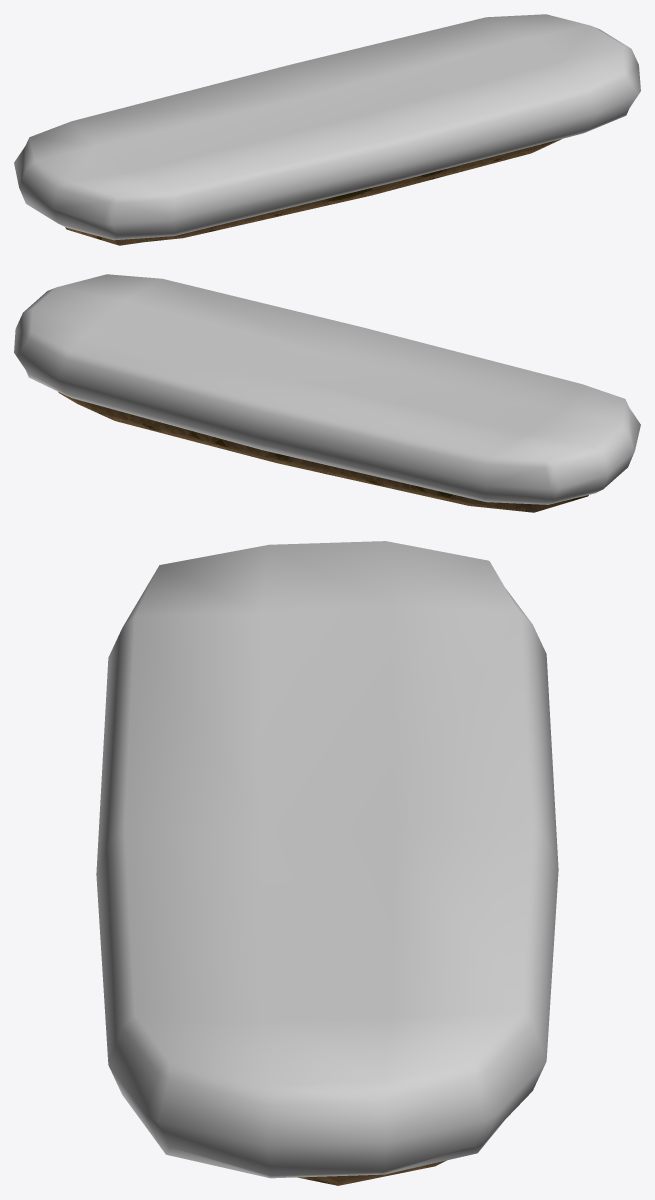
File: Platform_Long.FBX
The picture shows the model from 3 angles, top to bottom: view 1: azimuth 30°, elevation 25°; view 2: azimuth 150°, elevation 25°; view 3: azimuth 270°, elevation 25°; orthographic projection. The views are drawn at different scales.
Visible parts, largest first — view 1: Platform_Long; view 2: Platform_Long; view 3: Platform_Long.
Boxes of the visible parts, box(x1,y1,x2,y2) form: Platform_Long: box(14, 14, 640, 245); Platform_Long: box(14, 274, 640, 512); Platform_Long: box(96, 541, 558, 1185).
Size of the model in its own units: 2663 by 323 by 903.
